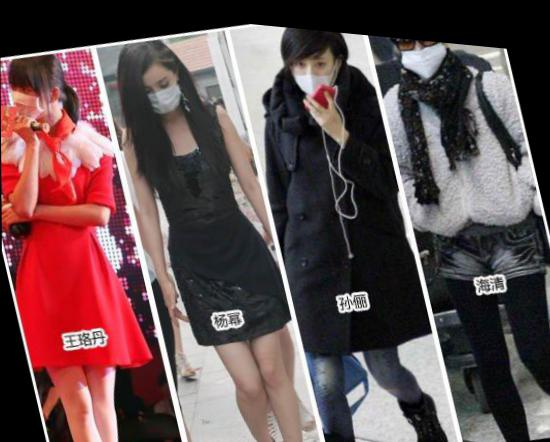OK: (3, 65, 63, 128), (129, 59, 183, 117)
WRONG: (285, 36, 346, 102), (392, 31, 452, 76)
